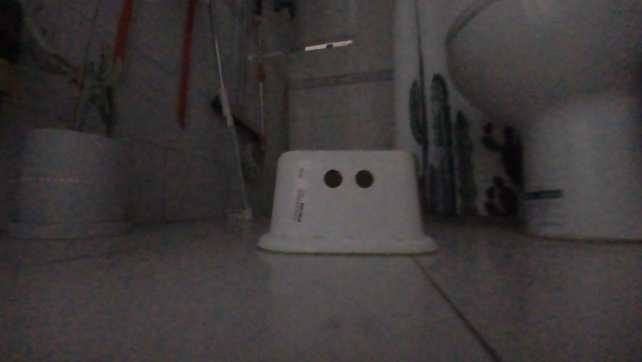toilet: (446, 0, 641, 245)
